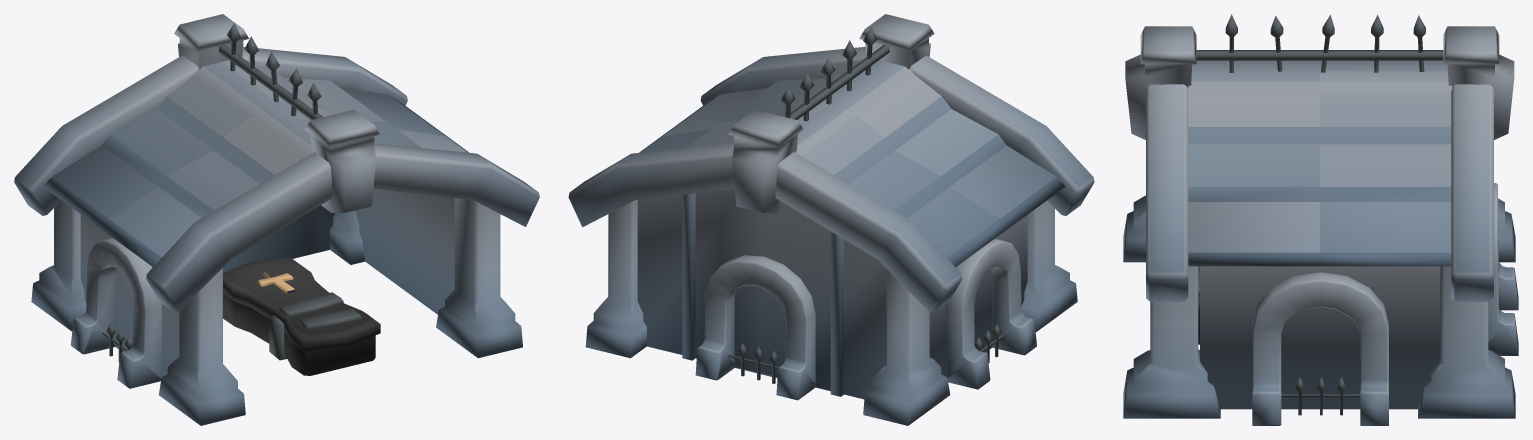
Rendered from Crypt.fbx.
The picture shows the model from 3 angles, left to right: view 1: azimuth 30°, elevation 25°; view 2: azimuth 150°, elevation 25°; view 3: azimuth 270°, elevation 25°; orthographic projection. The views are drawn at different scales.
Visible parts, largest first — view 1: Stone_House, coffin; view 2: Stone_House; view 3: Stone_House.
Boxes of the visible parts, bbox=[...] form: Stone_House: bbox=[14, 14, 539, 425]; coffin: bbox=[223, 257, 380, 375]; Stone_House: bbox=[568, 14, 1094, 425]; Stone_House: bbox=[1123, 14, 1518, 425].
Size of the model in its own units: 1480 by 1010 by 1156.
